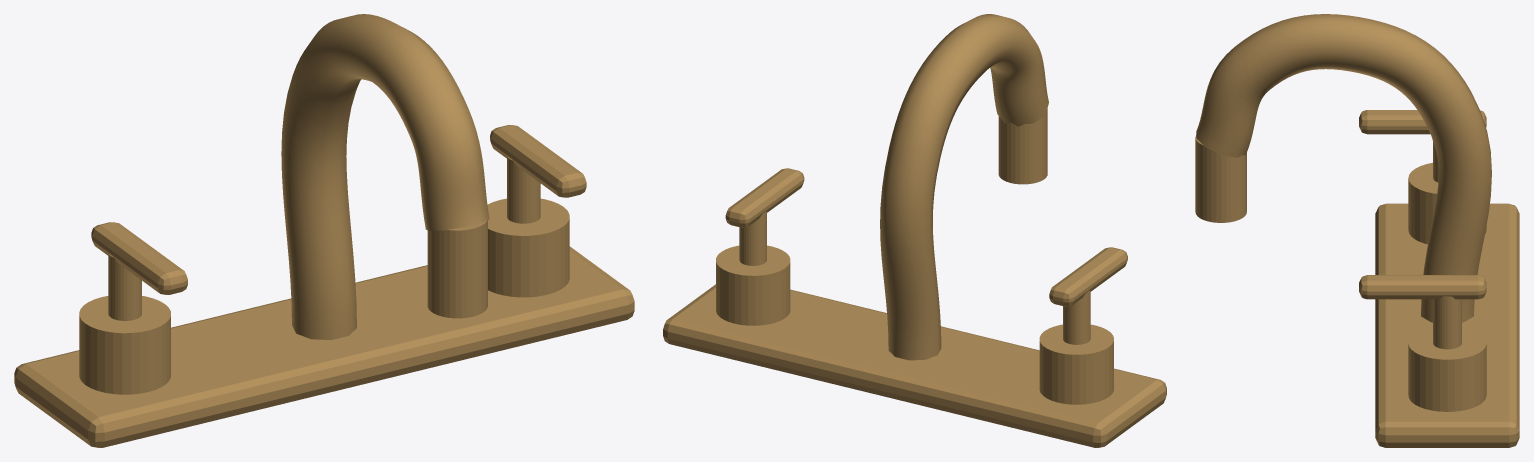
The model's file is tap-bath.glb.
The picture shows the model from 3 angles, left to right: view 1: azimuth 30°, elevation 25°; view 2: azimuth 150°, elevation 25°; view 3: azimuth 270°, elevation 25°; orthographic projection. The views are drawn at different scales.
Visible parts, largest first — view 1: deck, spout, handle-base, handle-base.001, spout-tip, handle-lever, handle-lever.001, handle-stem, handle-stem.001; view 2: deck, spout, handle-base.001, handle-base, spout-tip, handle-lever.001, handle-lever, handle-stem, handle-stem.001; view 3: spout, deck, handle-base.001, spout-tip, handle-lever.001, handle-base, handle-lever, handle-stem.001.
Boxes of the visible parts, bbox=[...] form: deck: bbox=[14, 246, 634, 447]; spout: bbox=[281, 14, 489, 339]; handle-base: bbox=[79, 296, 170, 394]; handle-base.001: bbox=[487, 198, 569, 297]; spout-tip: bbox=[427, 220, 487, 318]; handle-lever: bbox=[91, 222, 187, 294]; handle-lever.001: bbox=[490, 125, 586, 197]; handle-stem: bbox=[108, 254, 141, 320]; handle-stem.001: bbox=[507, 156, 540, 223]; deck: bbox=[663, 284, 1166, 447]; spout: bbox=[880, 14, 1048, 360]; handle-base.001: bbox=[716, 245, 790, 325]; handle-base: bbox=[1039, 324, 1113, 404]; spout-tip: bbox=[998, 108, 1047, 184]; handle-lever.001: bbox=[725, 168, 804, 227]; handle-lever: bbox=[1049, 247, 1127, 306]; handle-stem: bbox=[1063, 290, 1090, 344]; handle-stem.001: bbox=[739, 211, 766, 265]; spout: bbox=[1196, 14, 1491, 322]; deck: bbox=[1375, 203, 1519, 447]; handle-base.001: bbox=[1408, 328, 1486, 411]; spout-tip: bbox=[1195, 135, 1246, 222]; handle-lever.001: bbox=[1359, 275, 1486, 299]; handle-base: bbox=[1408, 162, 1486, 244]; handle-lever: bbox=[1359, 110, 1486, 134]; handle-stem.001: bbox=[1433, 296, 1461, 349].
Size of the model in its own units: 0.26 by 0.1723 by 0.1575.
